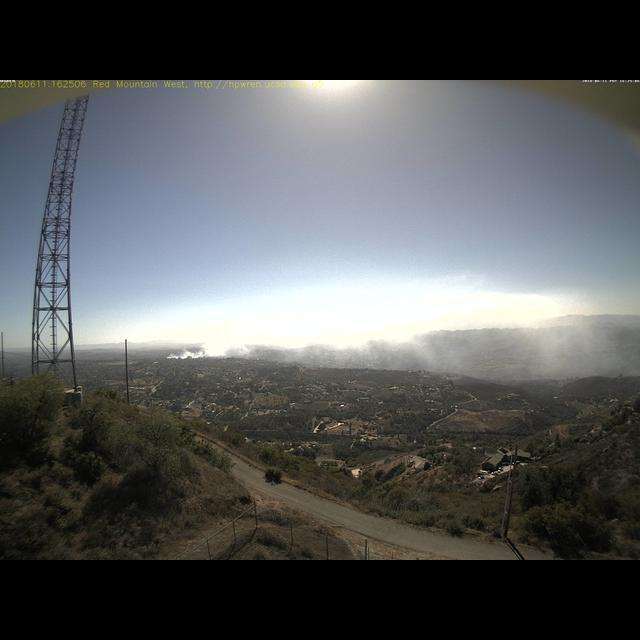Smoke: (167, 298, 542, 384)
